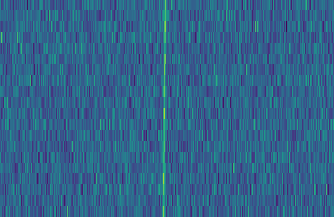signal: (159, 0, 168, 217)
